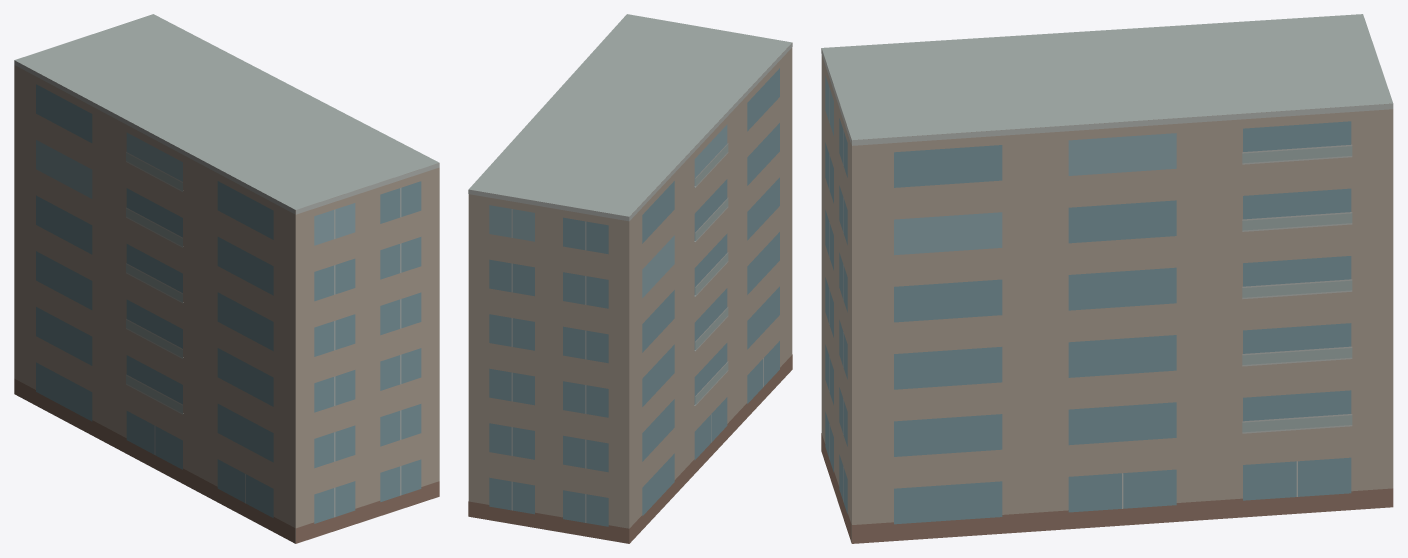
Rendered from survey-upis-32699020.glb.
The picture shows the model from 3 angles, left to right: view 1: azimuth 30°, elevation 25°; view 2: azimuth 150°, elevation 25°; view 3: azimuth 270°, elevation 25°; orthographic projection. The views are drawn at different scales.
Parts seen in each view (by area): view 1: survey-upis-32699020.tmp; view 2: survey-upis-32699020.tmp; view 3: survey-upis-32699020.tmp.
Part boxes in pixels (left/top/right/bottom): survey-upis-32699020.tmp: left=14, top=14, right=439, bottom=543; survey-upis-32699020.tmp: left=468, top=14, right=792, bottom=543; survey-upis-32699020.tmp: left=821, top=14, right=1393, bottom=543.
Bounding box in the file's own units: 11.61 × 17.3 × 22.22.
